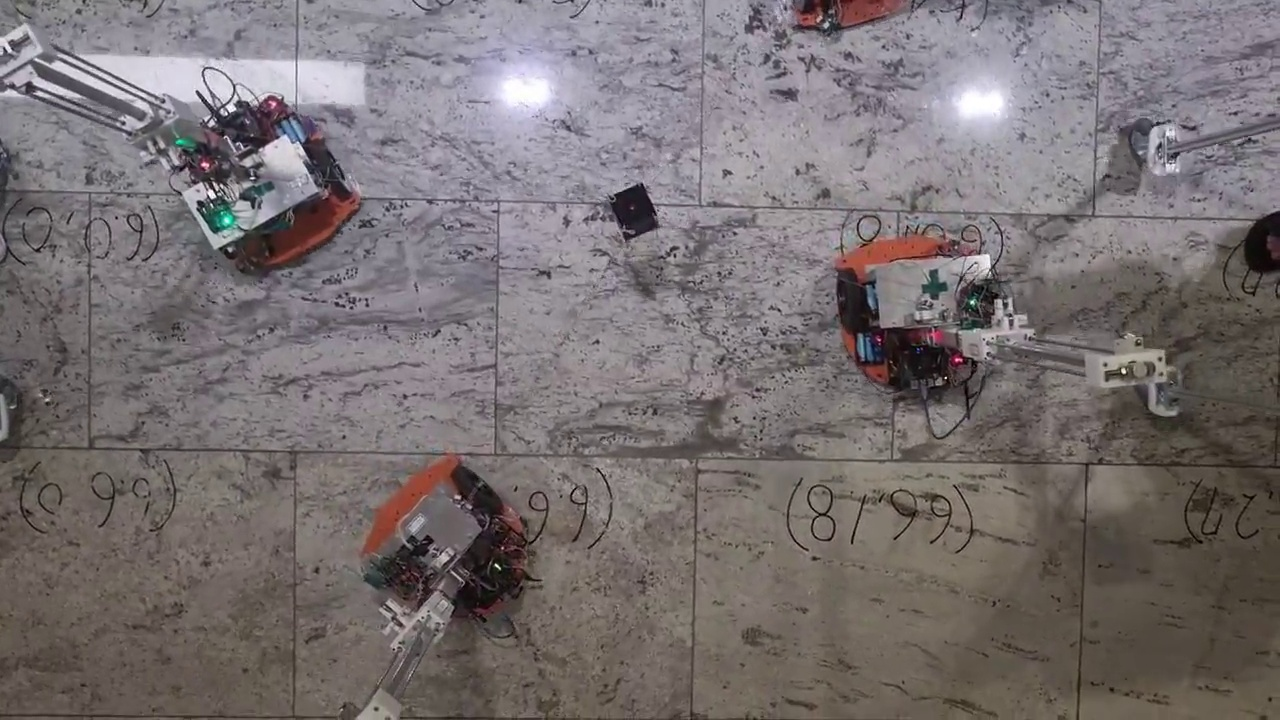e0: (608, 181, 660, 241)
r1: (835, 256, 1000, 333)
r2: (860, 1, 872, 9)
r3: (197, 139, 351, 257)
r4: (385, 464, 503, 608)
y_+_axis_vector: (495, 454, 892, 462)
y_-_axis_vector: (89, 448, 496, 455)
